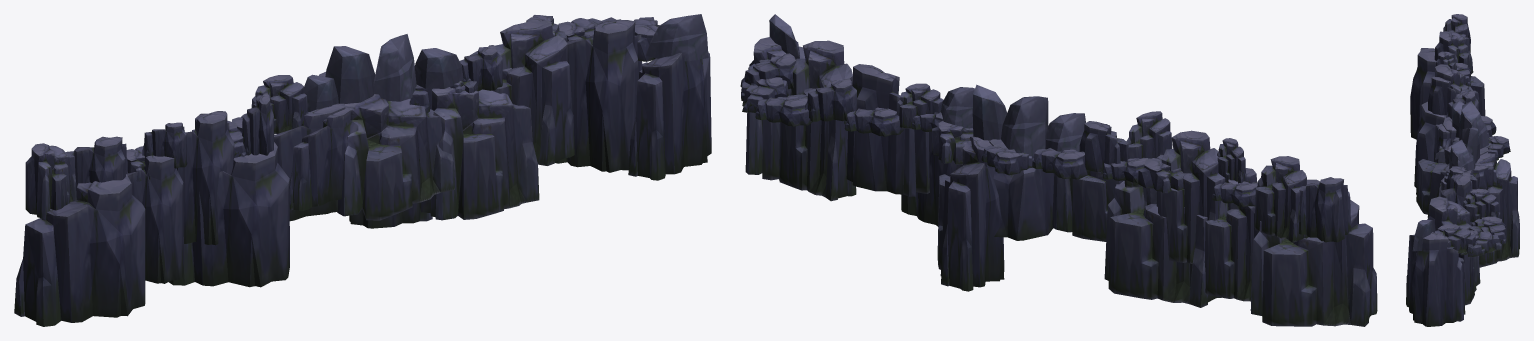
Rendered from Area07_10.fbx.
3 renders of one model, left to right at view 1: azimuth 30°, elevation 25°; view 2: azimuth 150°, elevation 25°; view 3: azimuth 270°, elevation 25°, orthographic. The views are drawn at different scales.
Parts seen in each view (by area): view 1: Area07_10; view 2: Area07_10; view 3: Area07_10.
Boxes of the visible parts, x1=… form: Area07_10: x1=14, y1=14, x2=711, y2=326; Area07_10: x1=740, y1=14, x2=1377, y2=326; Area07_10: x1=1406, y1=14, x2=1519, y2=326.
Size of the model in its own units: 11939 by 3267 by 2571.
